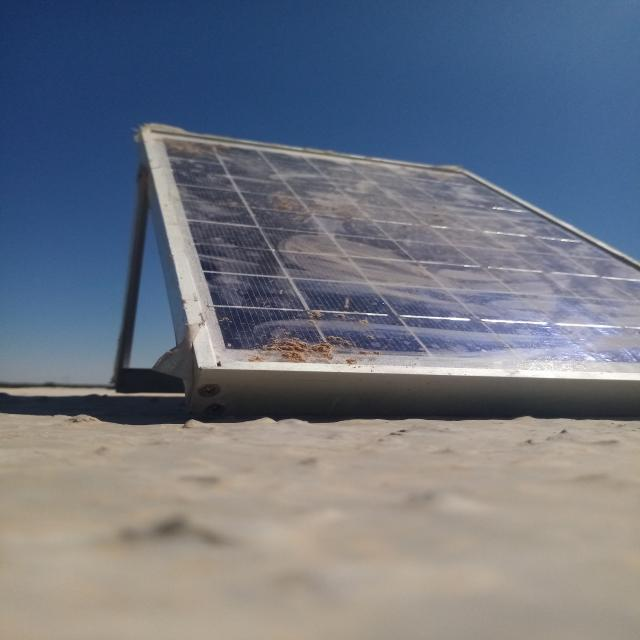Surface Contaminant: (146, 126, 640, 366)
